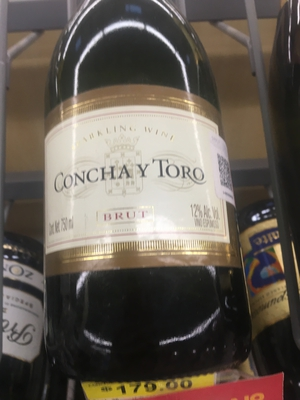brut: (42, 23, 231, 360)
